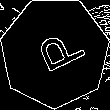P_SW: (25, 25, 85, 80)
